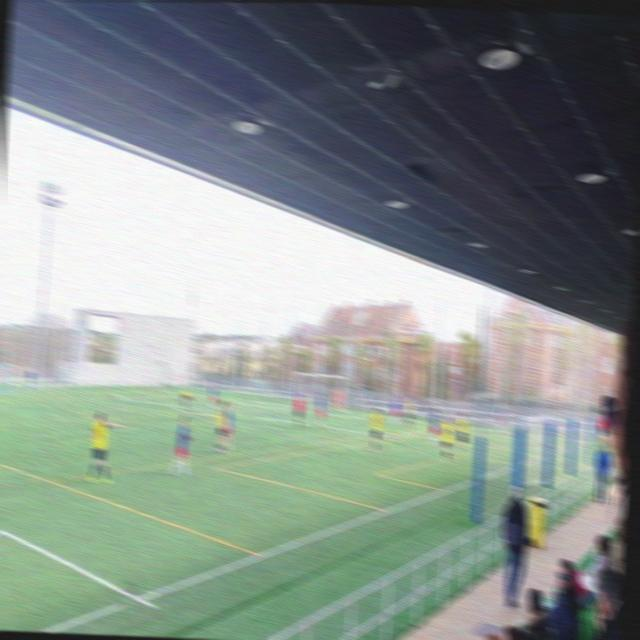bigarea_bottom_inner: (384, 429, 397, 445)
bigarea_top_inner: (107, 391, 116, 401)
bigarea_top_outter: (204, 394, 211, 398)
corner: (155, 388, 162, 392)
halfcircle_bottom: (268, 411, 280, 427)
halfcircle_top: (173, 400, 182, 411)
midline_bottom_intersection: (118, 580, 157, 620)
smallarea_bottom_inner: (350, 413, 358, 420)
smallarea_top_inner: (230, 398, 240, 407)
smallarea_top_outter: (259, 400, 266, 405)
